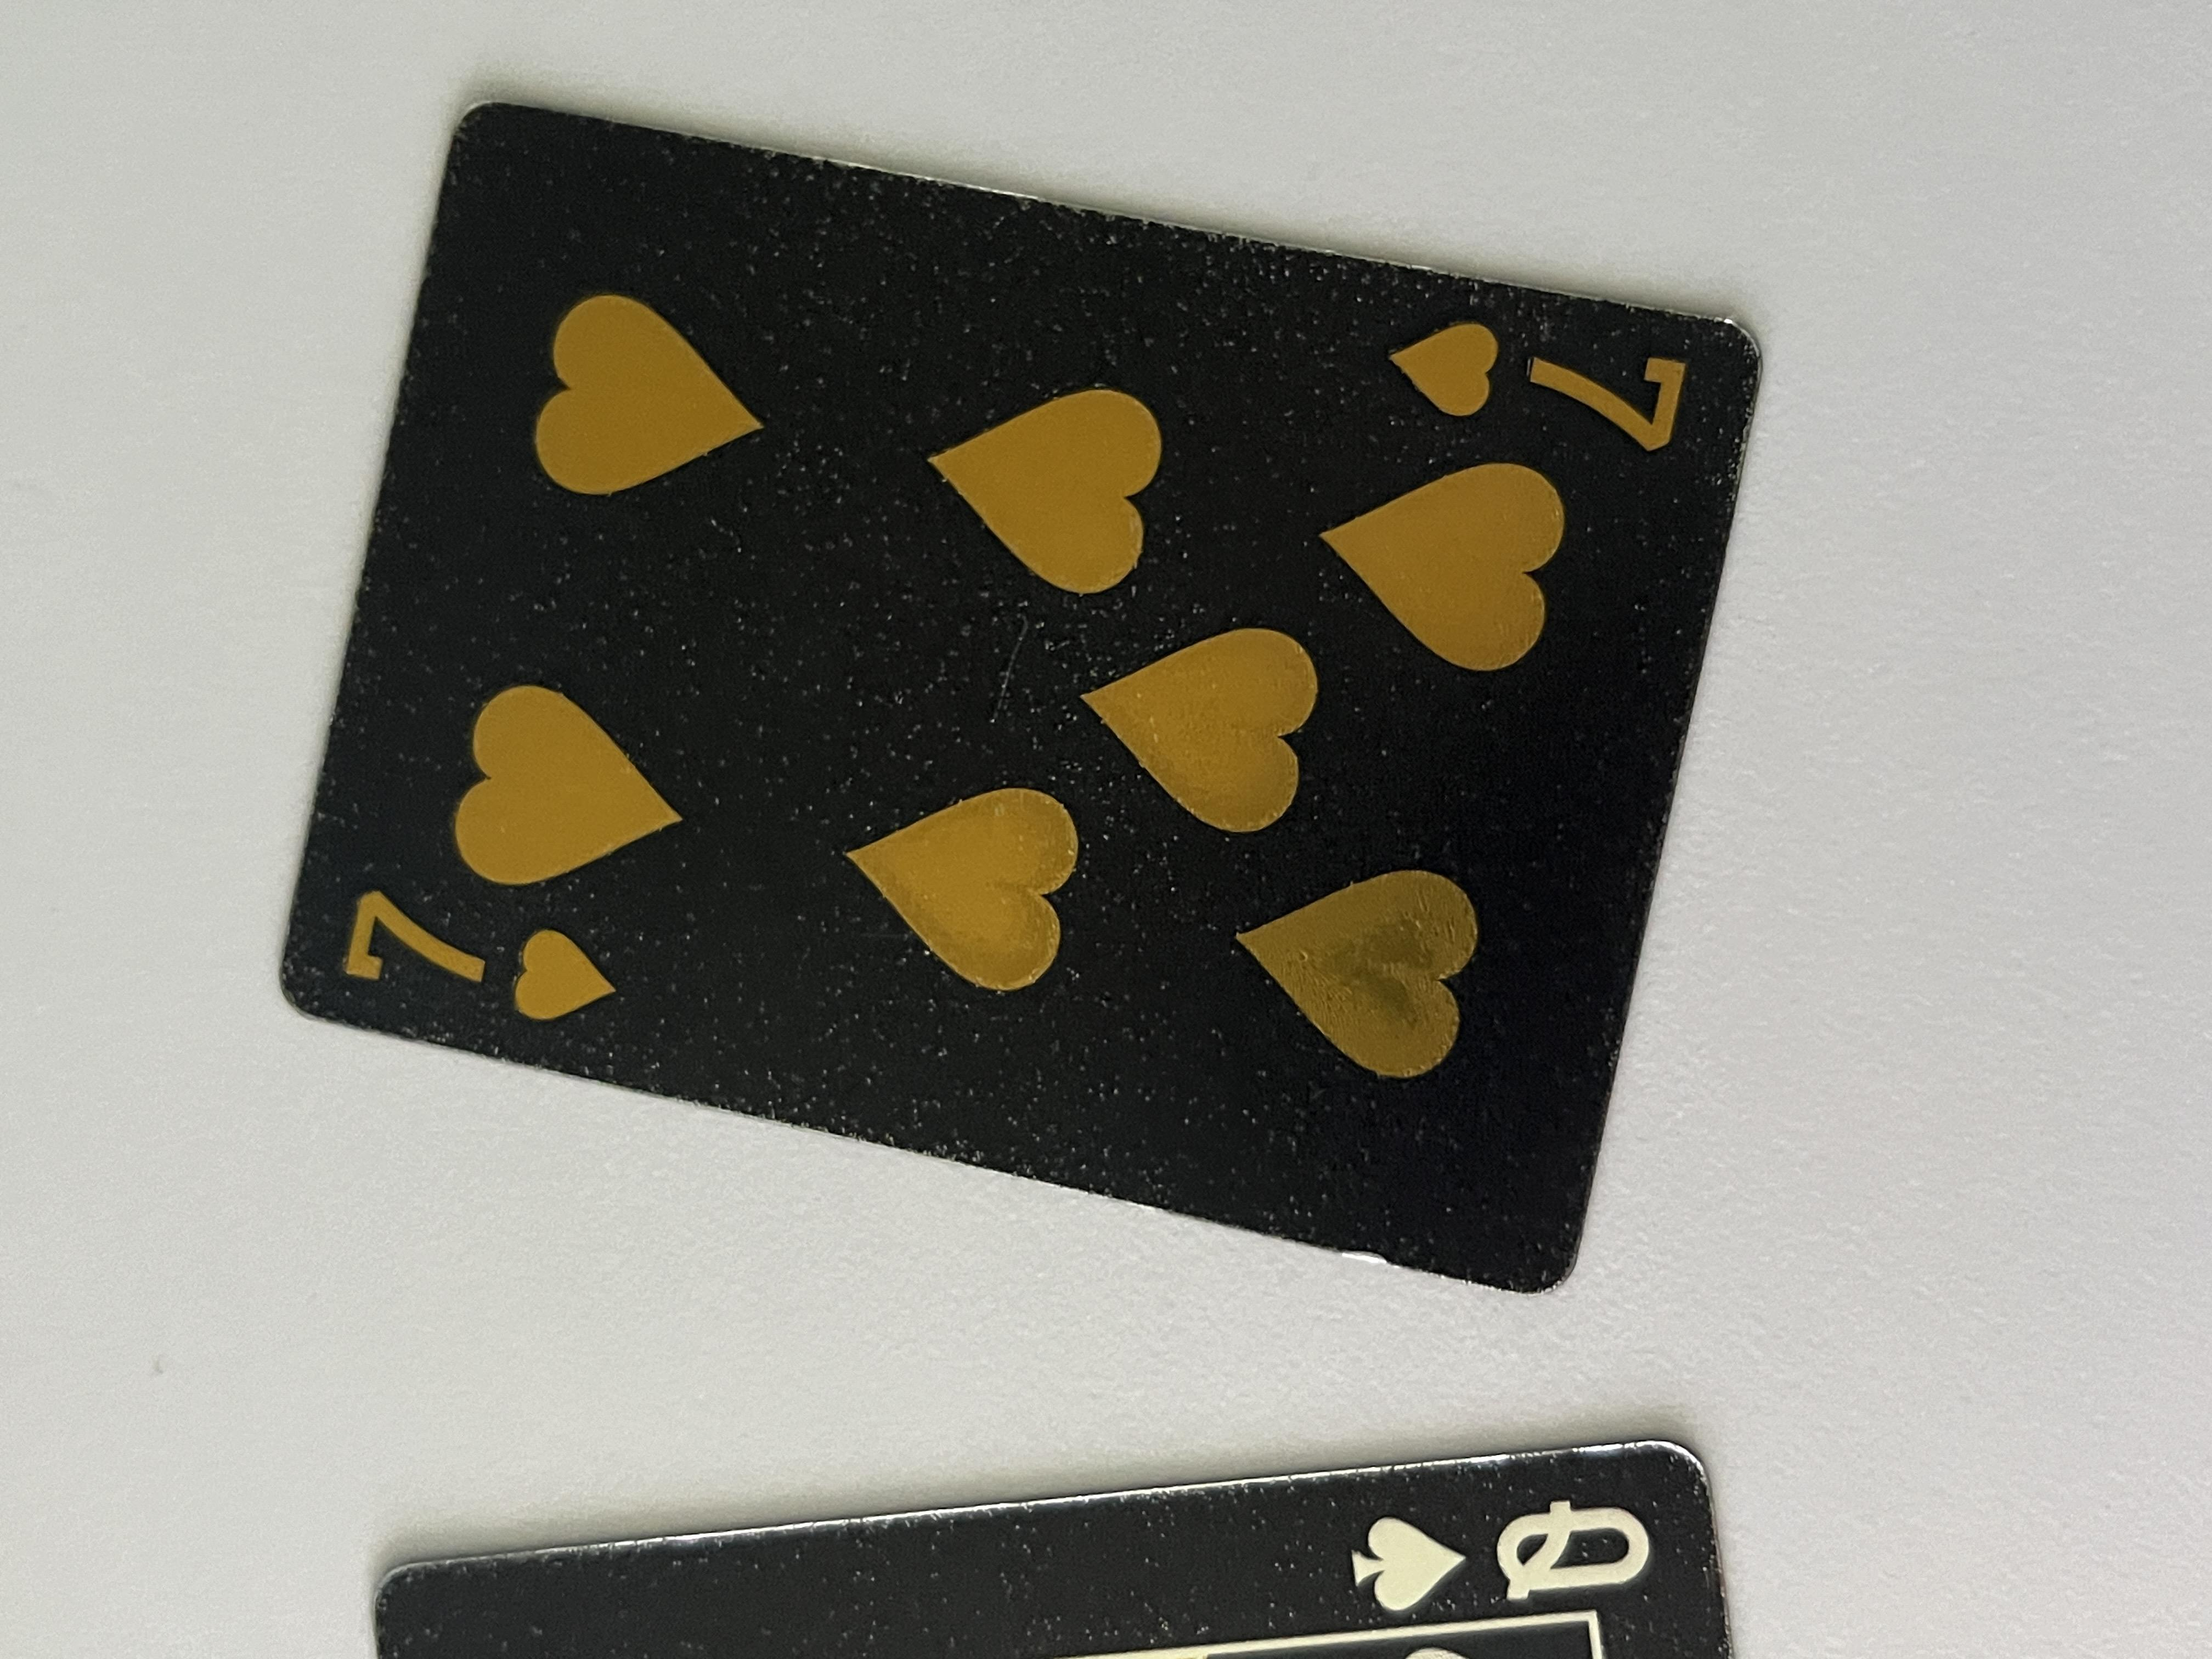7H: (1580, 1040, 1822, 1279), (819, 225, 1038, 471)
QS: (10, 1004, 237, 1232)
